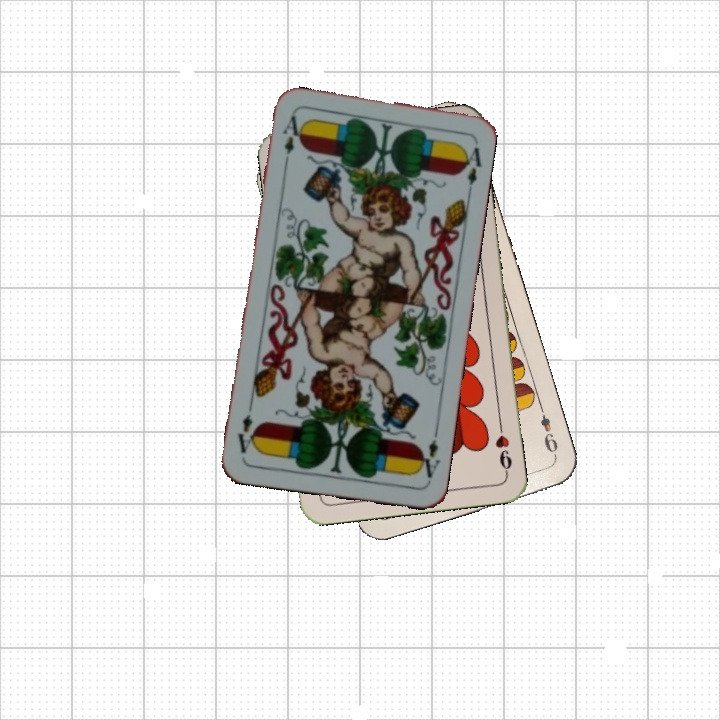E9: (535, 402, 561, 460)
EA: (413, 424, 443, 483), (278, 111, 301, 170)
H9: (491, 417, 515, 476)
